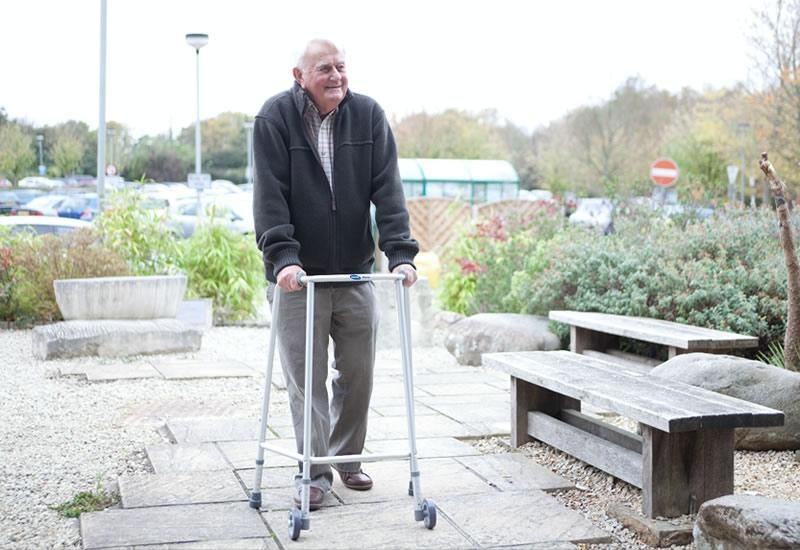walking_frame: (249, 39, 437, 541)
